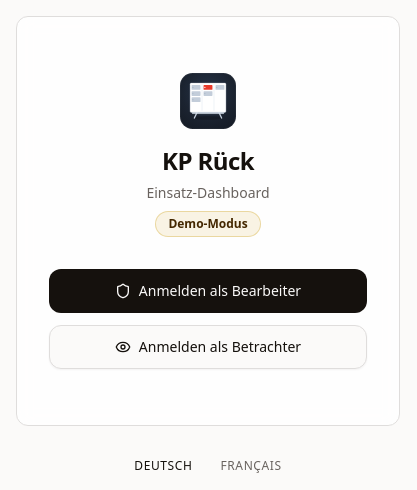
Test: LoginPage while signing in › marks only the demo button that was pressed as busy
Click the button "Anmelden als Bearbeiter".
click(208, 291)  # box x1=49 y1=269 x2=367 y2=313
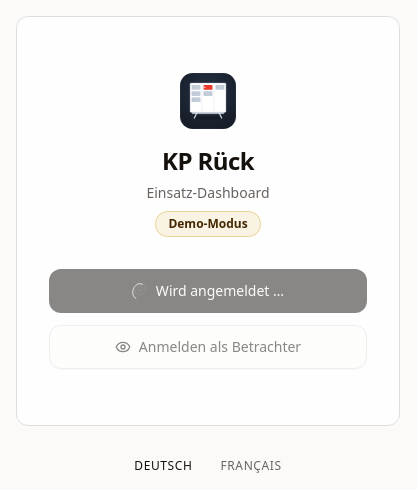
Now the button "Wird angemeldet …" is disabled, box x1=49 y1=269 x2=367 y2=313
Now the button "Anmelden als Betrachter" is disabled, box x1=49 y1=325 x2=367 y2=369
